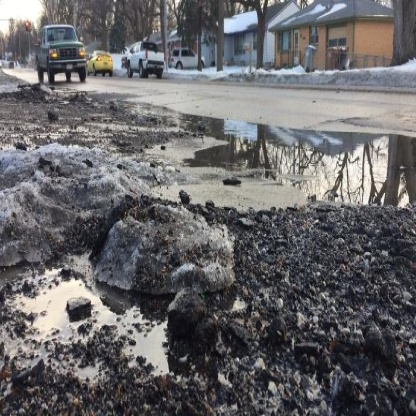pothole: (1, 135, 412, 413)
